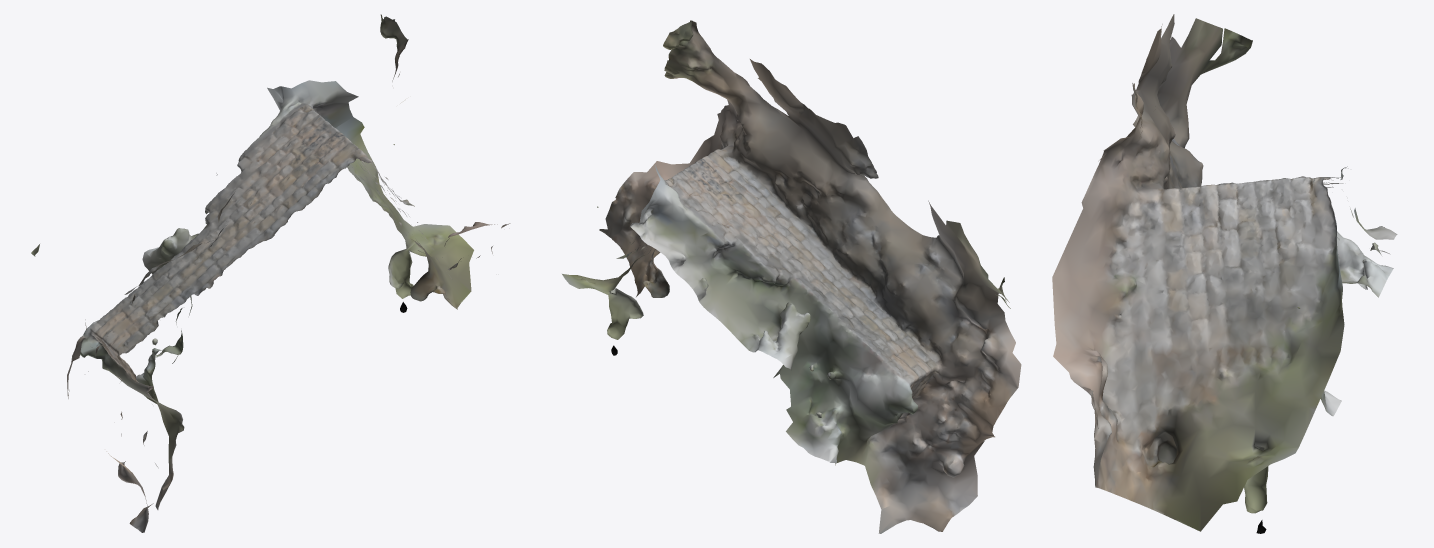
File: new_mill_low_res.glb
3 renders of one model, left to right at view 1: azimuth 30°, elevation 25°; view 2: azimuth 150°, elevation 25°; view 3: azimuth 270°, elevation 25°, orthographic. The views are drawn at different scales.
Bounding box in the file's own units: 5.47 × 5.12 × 2.57.
